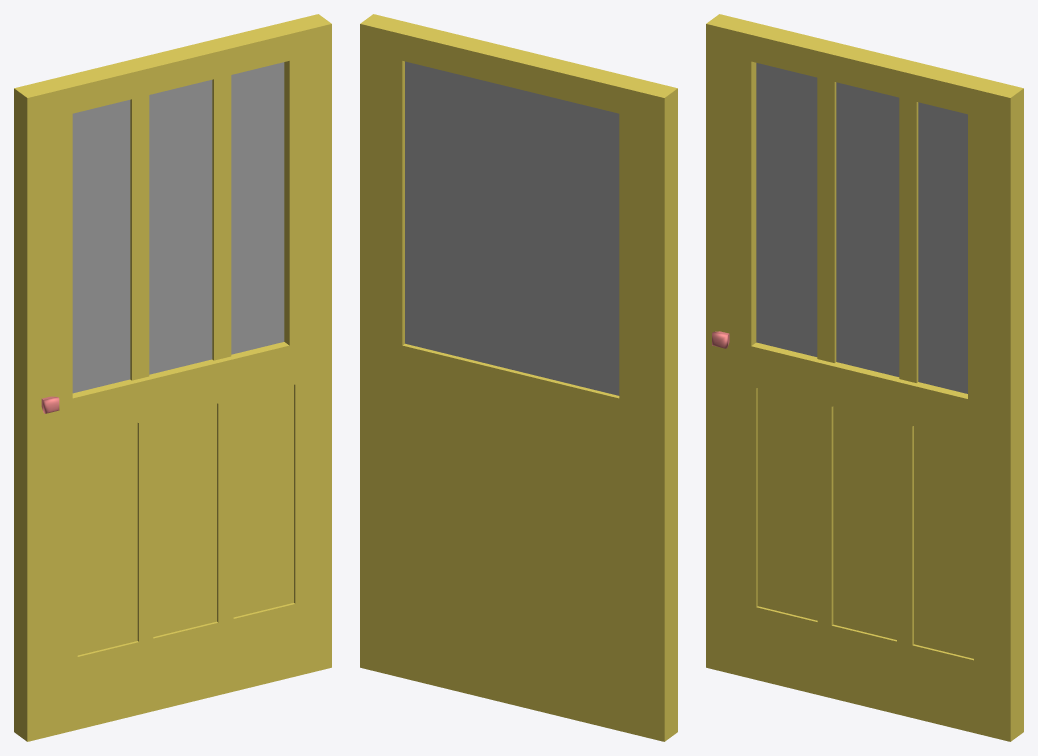
The model's file is Door3.FBX.
3 views of the same model, side by side, from view 1: azimuth 30°, elevation 25°; view 2: azimuth 150°, elevation 25°; view 3: azimuth 330°, elevation 25° (orthographic).
Parts seen in each view (by area): view 1: Door01; view 2: Door01; view 3: Door01.
Boxes of the visible parts, left/top/right/bottom form: Door01: left=14, top=14, right=331, bottom=741; Door01: left=360, top=14, right=677, bottom=741; Door01: left=706, top=14, right=1023, bottom=741.
Bounding box in the file's own units: 40.85 × 82.55 × 4.87.
